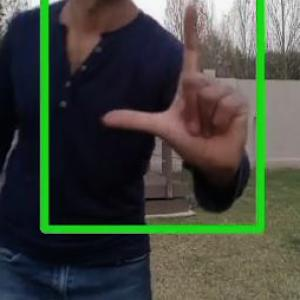land_hand: (91, 0, 255, 183)
